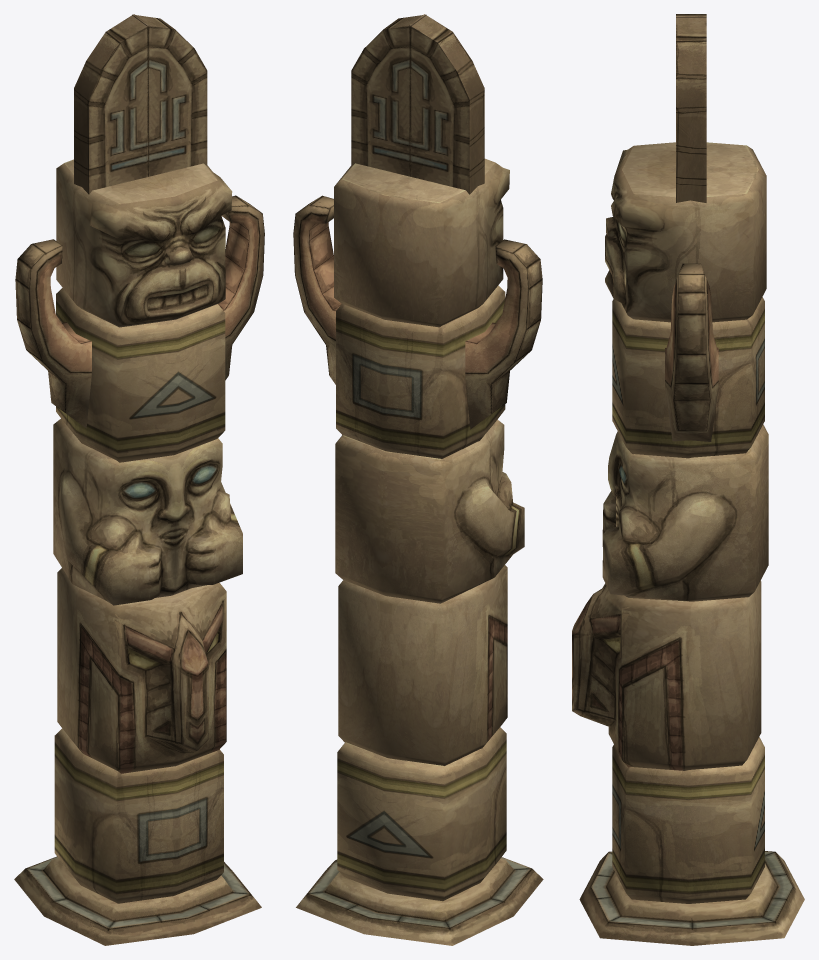
File: totemb.FBX
The picture shows the model from 3 angles, left to right: view 1: azimuth 30°, elevation 25°; view 2: azimuth 150°, elevation 25°; view 3: azimuth 270°, elevation 25°; orthographic projection.
Parts seen in each view (by area): view 1: totem b; view 2: totem b; view 3: totem b.
Part boxes in pixels (bbox=[...]): totem b: bbox=[14, 14, 264, 945]; totem b: bbox=[293, 14, 543, 945]; totem b: bbox=[572, 14, 804, 945].
Size of the model in its own units: 1.61 by 5.7 by 1.36.
